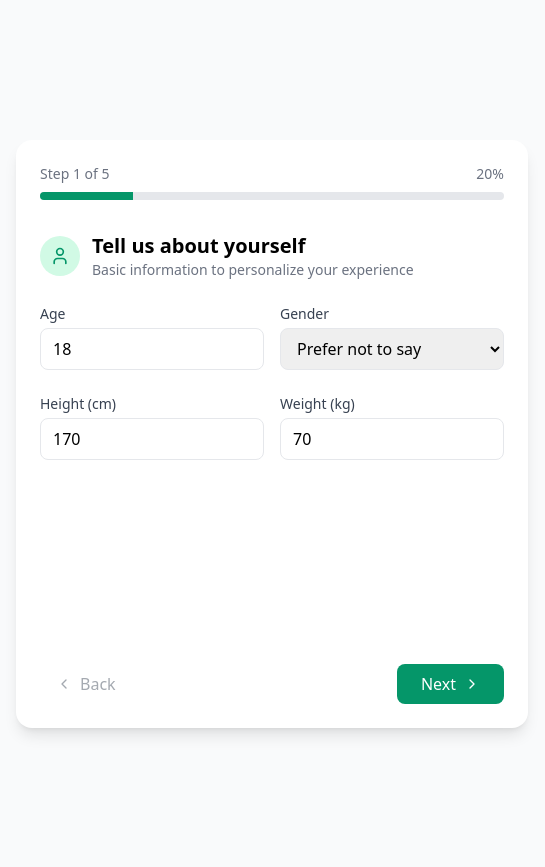
Onboarding Component › should show error message on profile creation failure
The image size is (545, 867).
What coordinates should you click on to do the following:
click the button "Next"
I would click on:
 (450, 684)
Its box is [397,664,504,704].
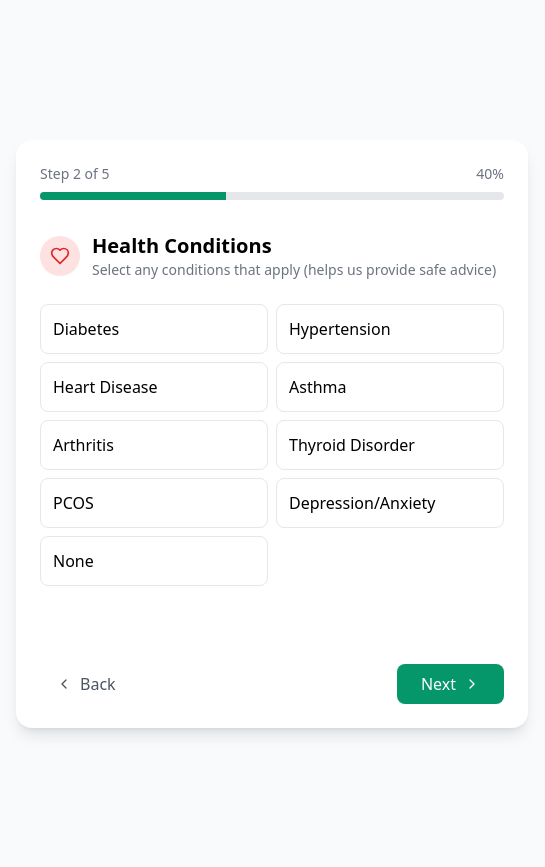
What coordinates should you click on to do the following:
click the button "Next"
I would click on:
 (450, 684)
Its box is [397,664,504,704].
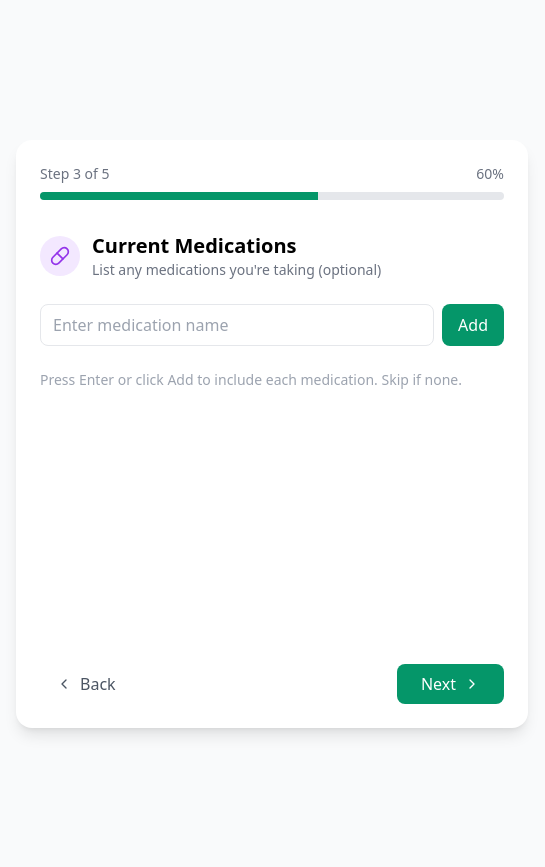
What coordinates should you click on to do the following:
click the button "Next"
I would click on:
 (450, 684)
Its box is [397,664,504,704].
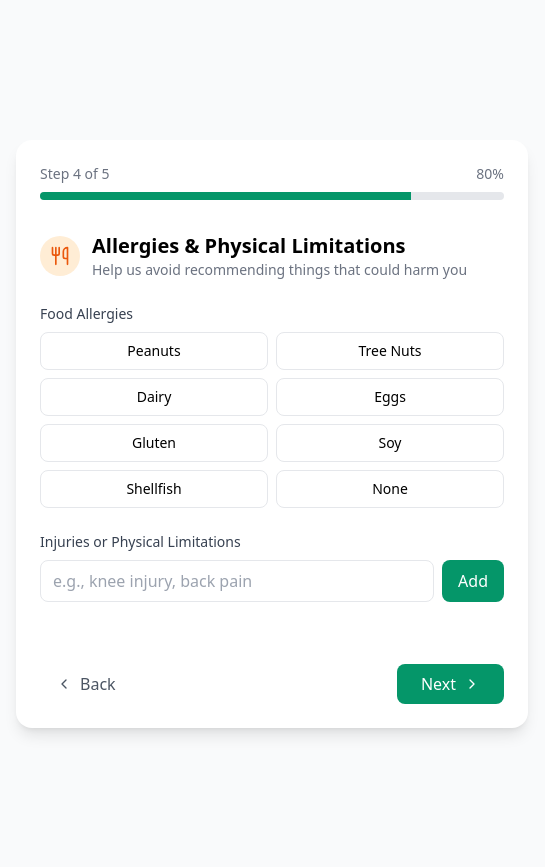
What coordinates should you click on to do the following:
click the button "Next"
I would click on:
 (450, 684)
Its box is [397,664,504,704].
(page scrolled)
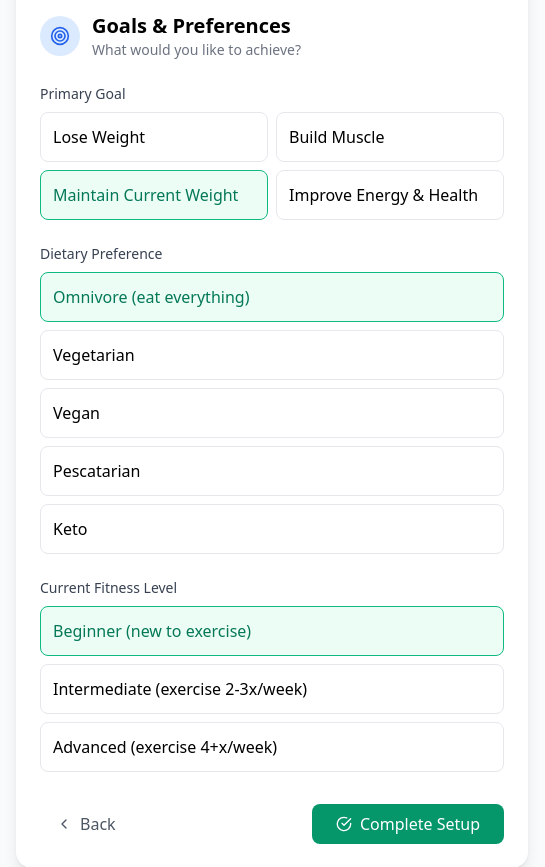
What coordinates should you click on to do the following:
click the button "Complete Setup"
I would click on:
 (408, 824)
Its box is [312,804,504,844].
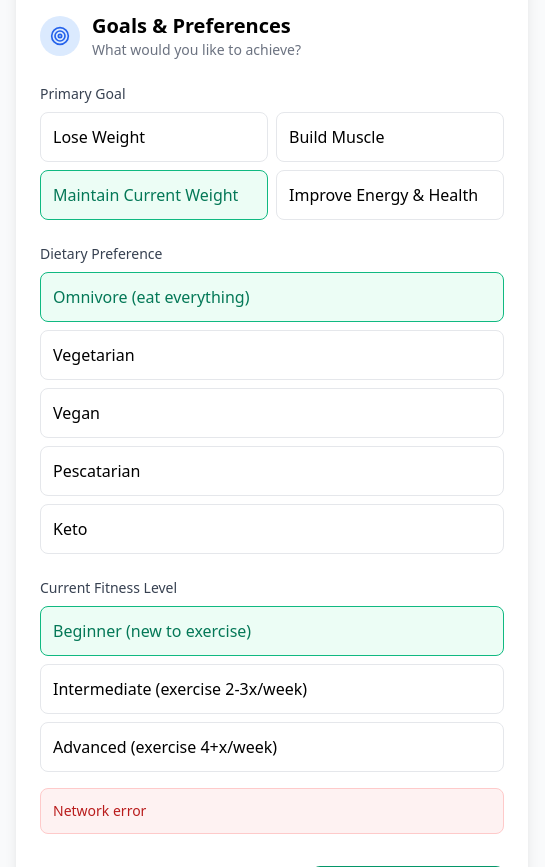
Now the text "Network error" is shown, box [40,788,504,834]
